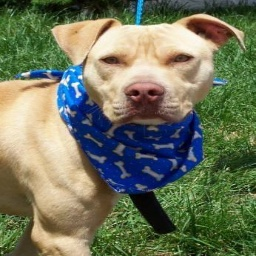dog: (0, 13, 248, 256)
